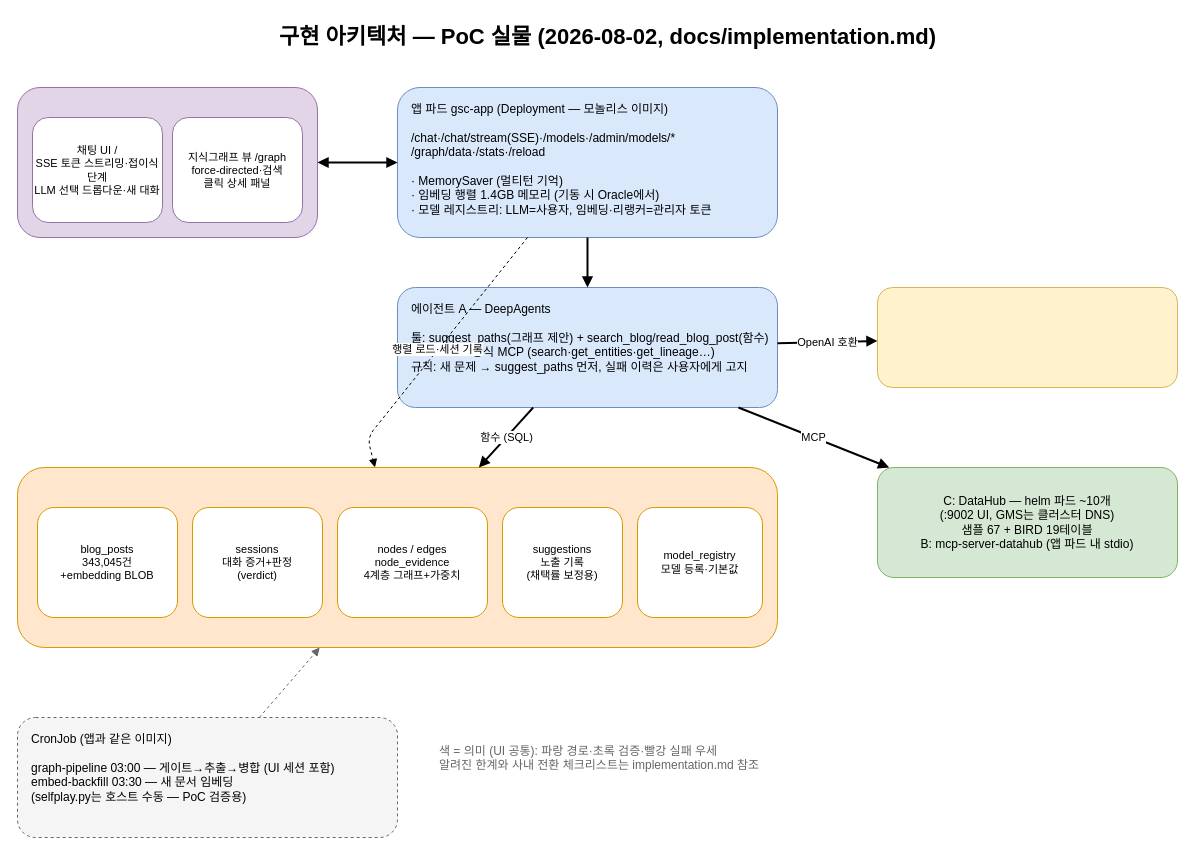
The diagram is 1195 pixels wide and 855 high, and some of its shapes have lost their labels. Each missing label, with the box of its shape:
D: Oracle 파드 (k8s StatefulSet :1521 — 사내는 19c로 이미지 교체): (16, 466, 778, 648)
모델 서빙 LM Studio :1234 LLM 4종 (qwen3.6 계열) 임베딩 3종 (기본: qwen3-embedding-0.6b): (876, 286, 1178, 388)
브라우저 (localhost:8500): (16, 86, 318, 238)
